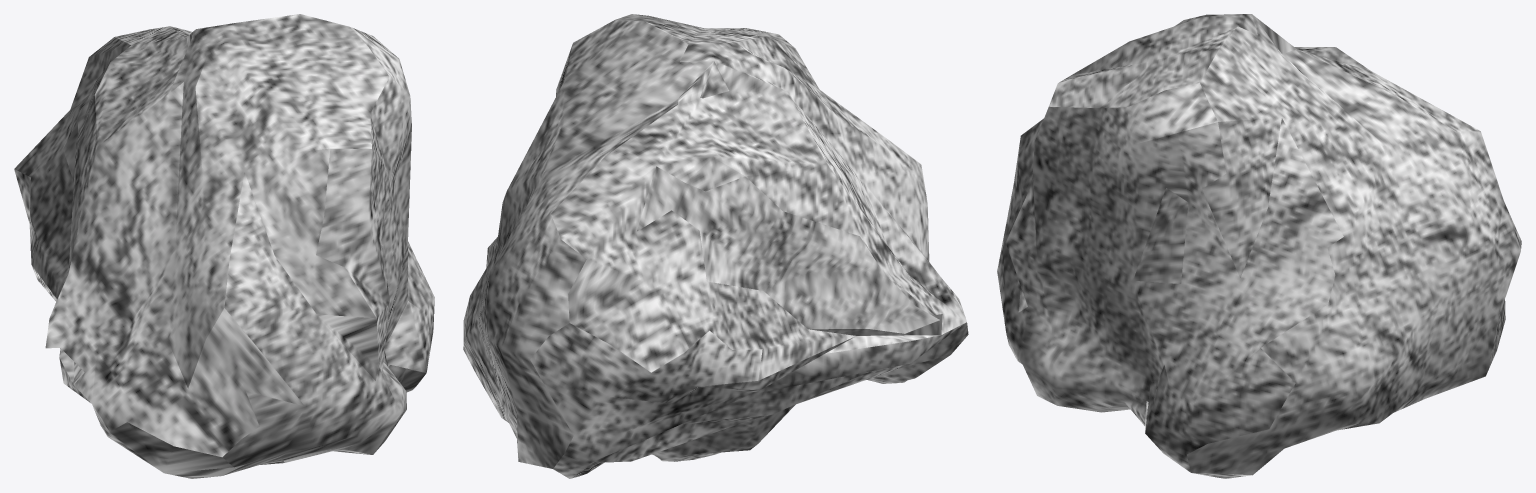
File: Rock_Asset_07.fbx
3 views of the same model, side by side, from view 1: azimuth 30°, elevation 25°; view 2: azimuth 150°, elevation 25°; view 3: azimuth 270°, elevation 25° (orthographic). The views are drawn at different scales.
Parts seen in each view (by area): view 1: Rock_Asset; view 2: Rock_Asset; view 3: Rock_Asset.
Part boxes in pixels (box(x1,y1,x2,y2)): Rock_Asset: box(14, 14, 434, 478); Rock_Asset: box(463, 14, 968, 478); Rock_Asset: box(997, 14, 1521, 478).
Bounding box in the file's own units: 2.04 × 2.04 × 2.39.
1 material, 1 textured.
